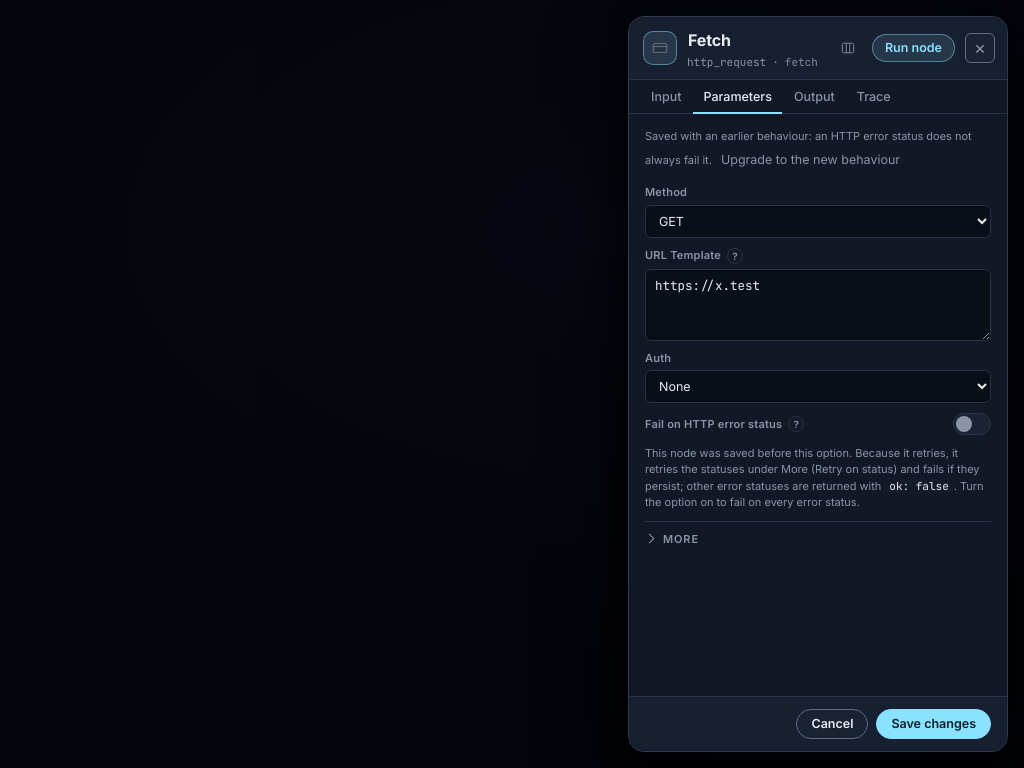
Test: HTTP Request saved before the option › reads retries from the node's errorConfig and shows them under More
Expected: the element with test id "http-retry-list-only-tip" is shown, [645,445,991,511]
Click the heading "More" at [681, 539], box [663,532,699,546]
(page scrolled)
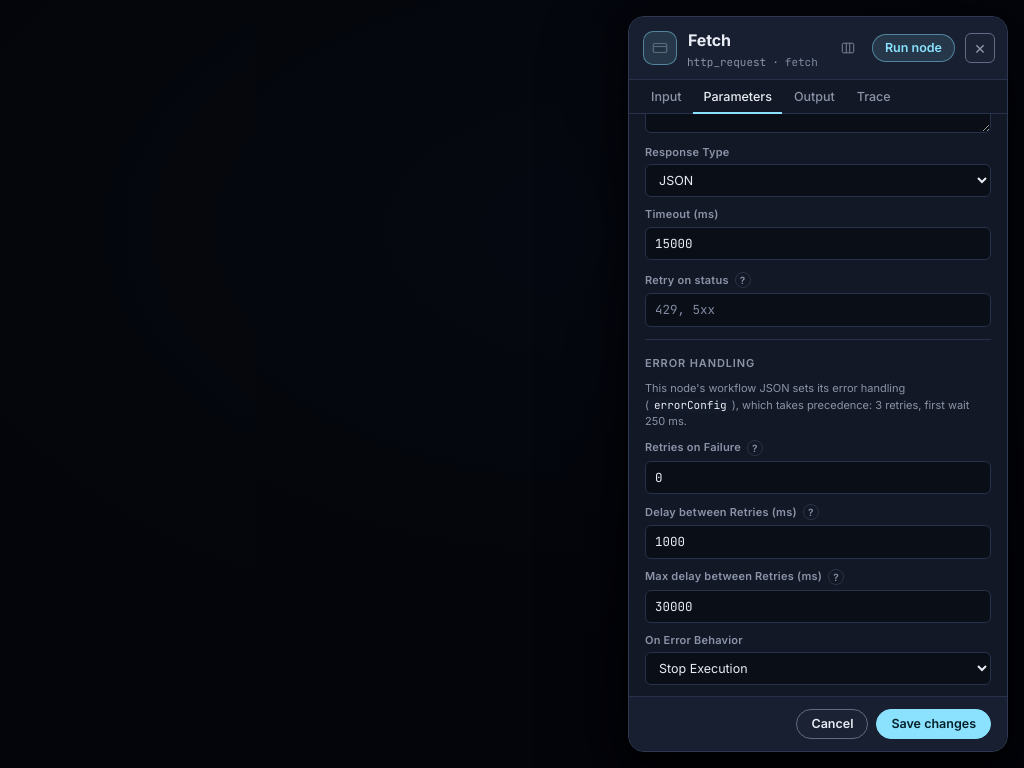
Result: the element with test id "node-error-config-tip" shows "3 retries, first wait 250 ms" at [645,398,969,428]
